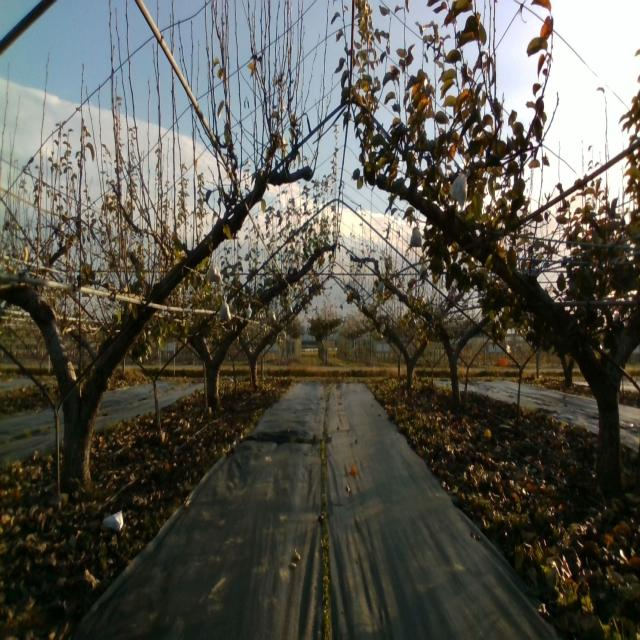pearbags: (449, 172, 468, 209), (207, 262, 222, 283), (409, 225, 422, 248), (220, 300, 232, 322)
